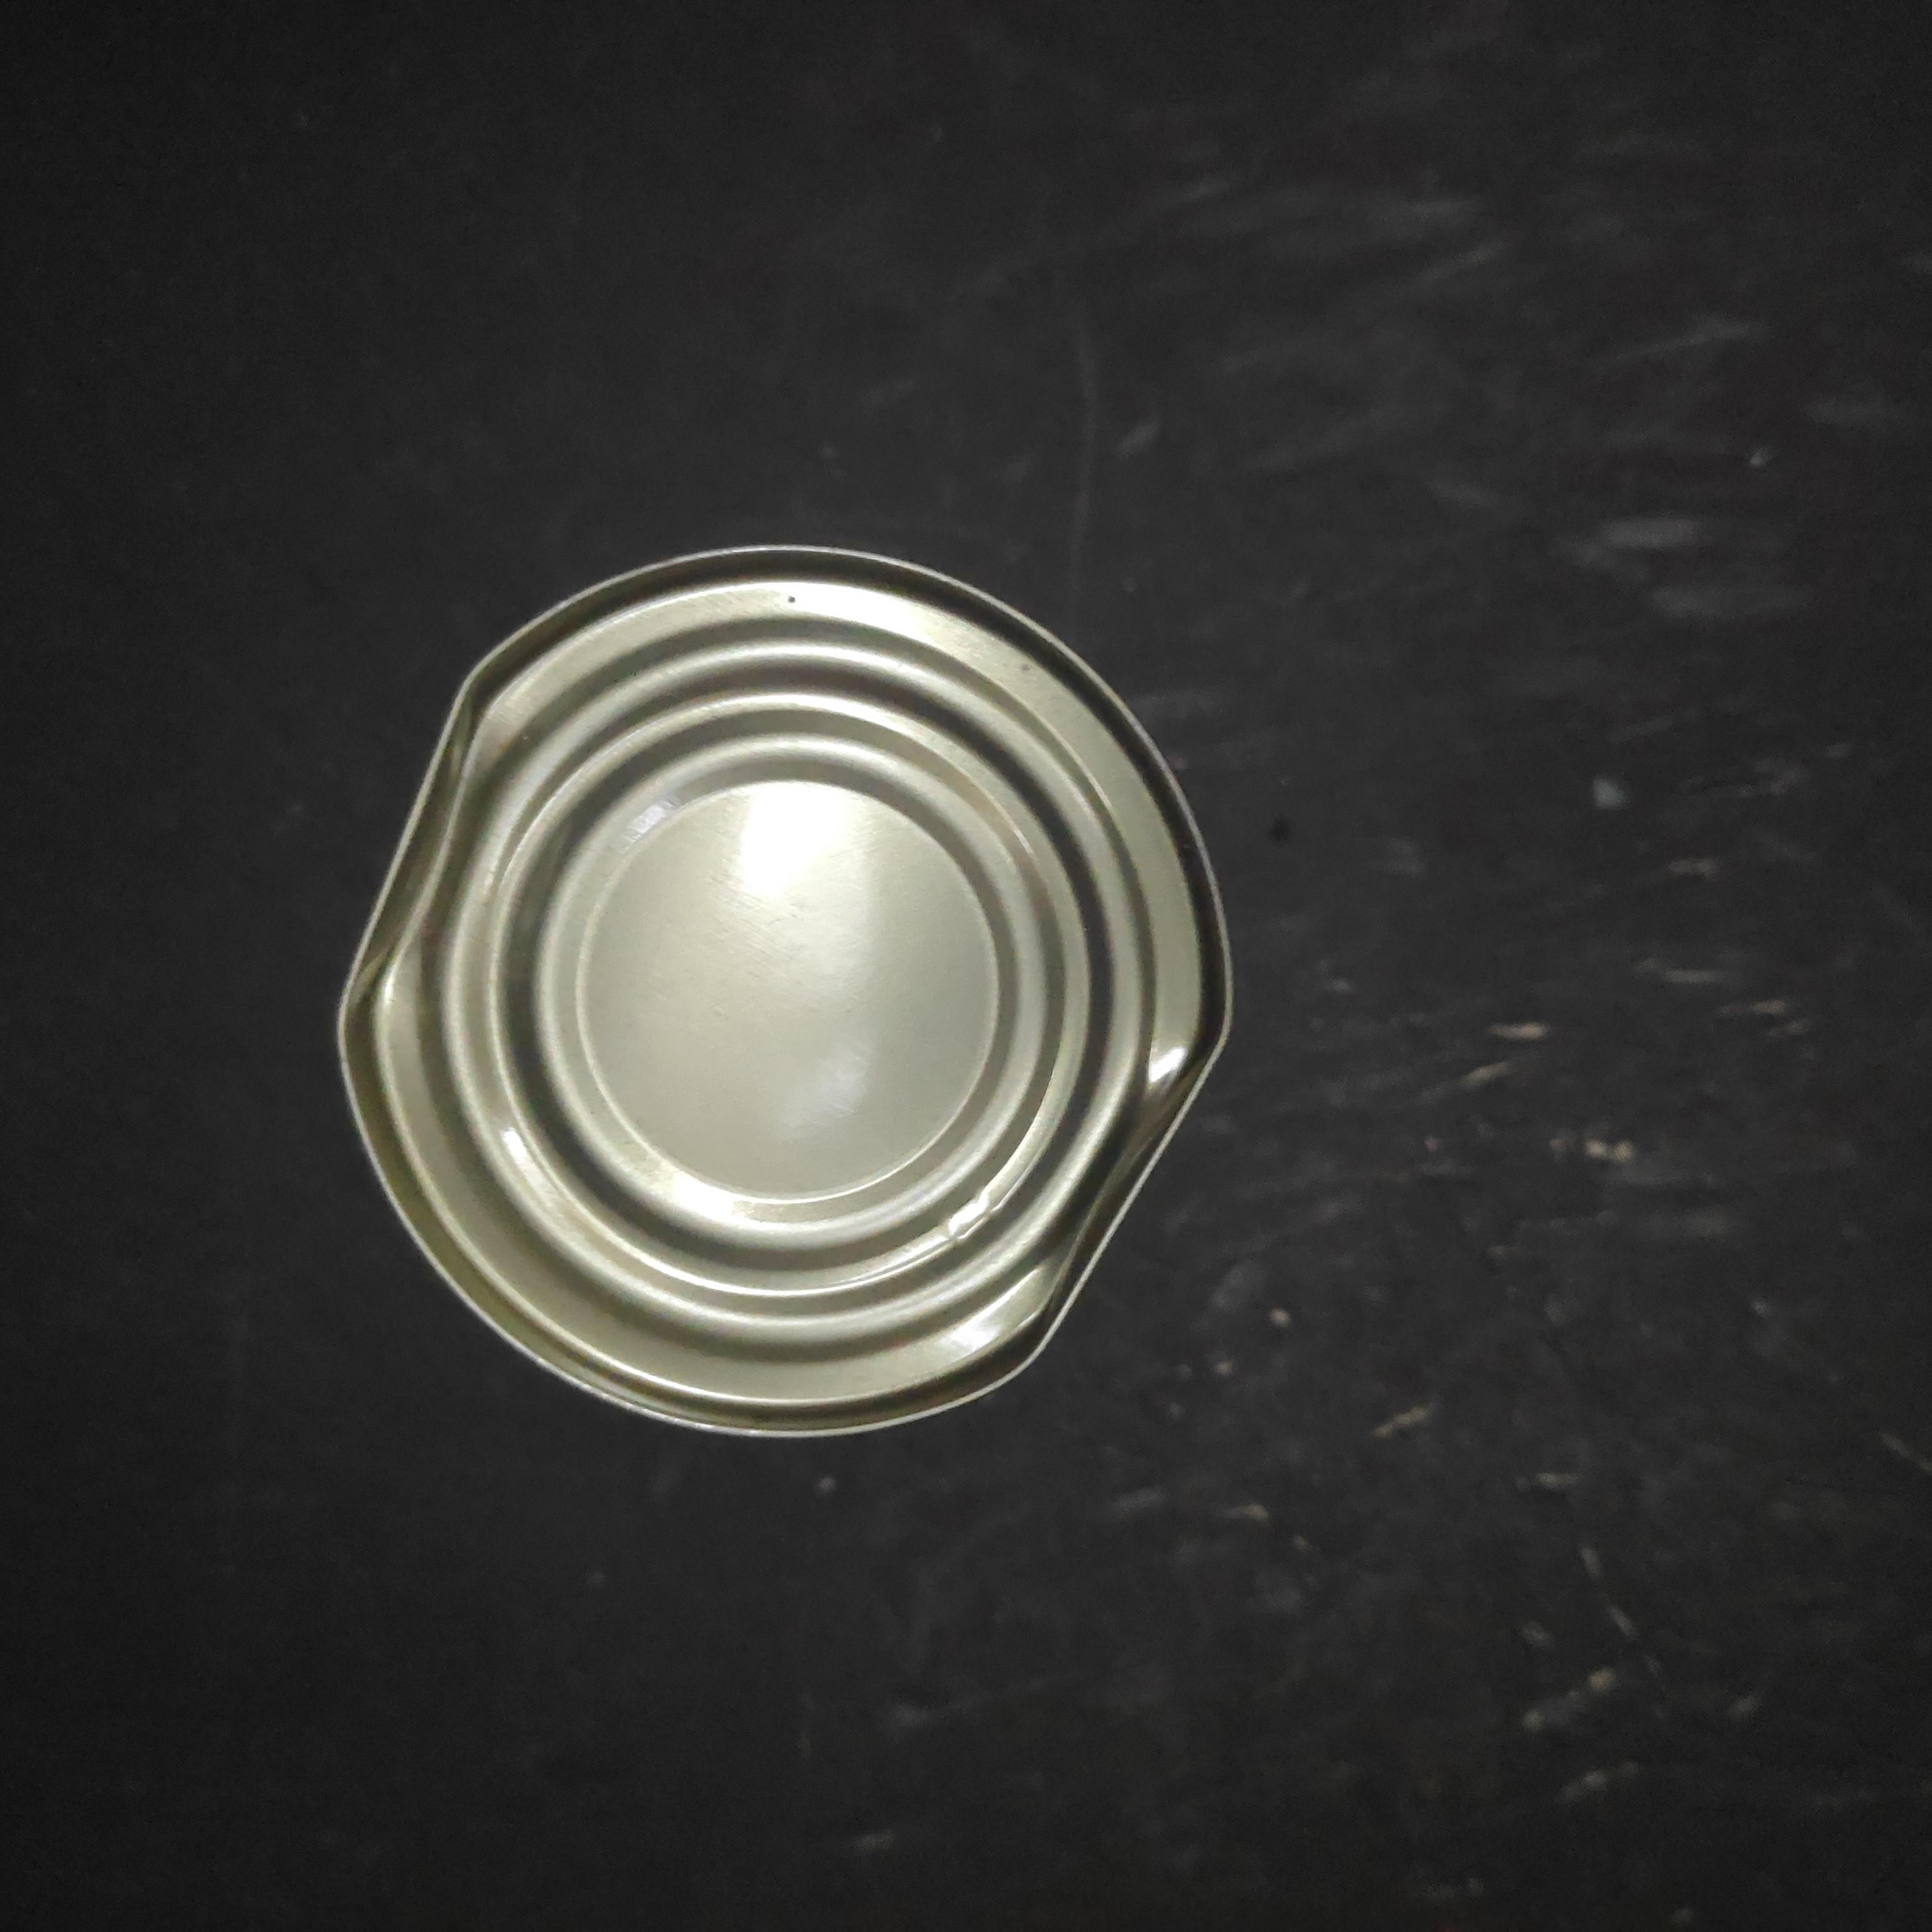Minor Defect: (321, 521, 1247, 1453)
